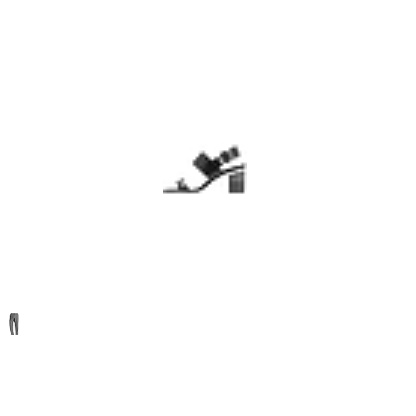Sandal: (163, 124, 247, 208)
Trouser: (3, 313, 25, 335)
